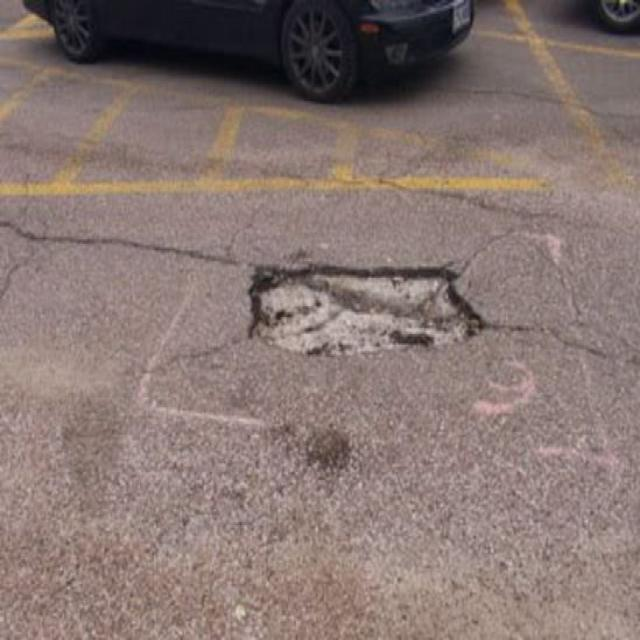pothole: (237, 254, 487, 358)
